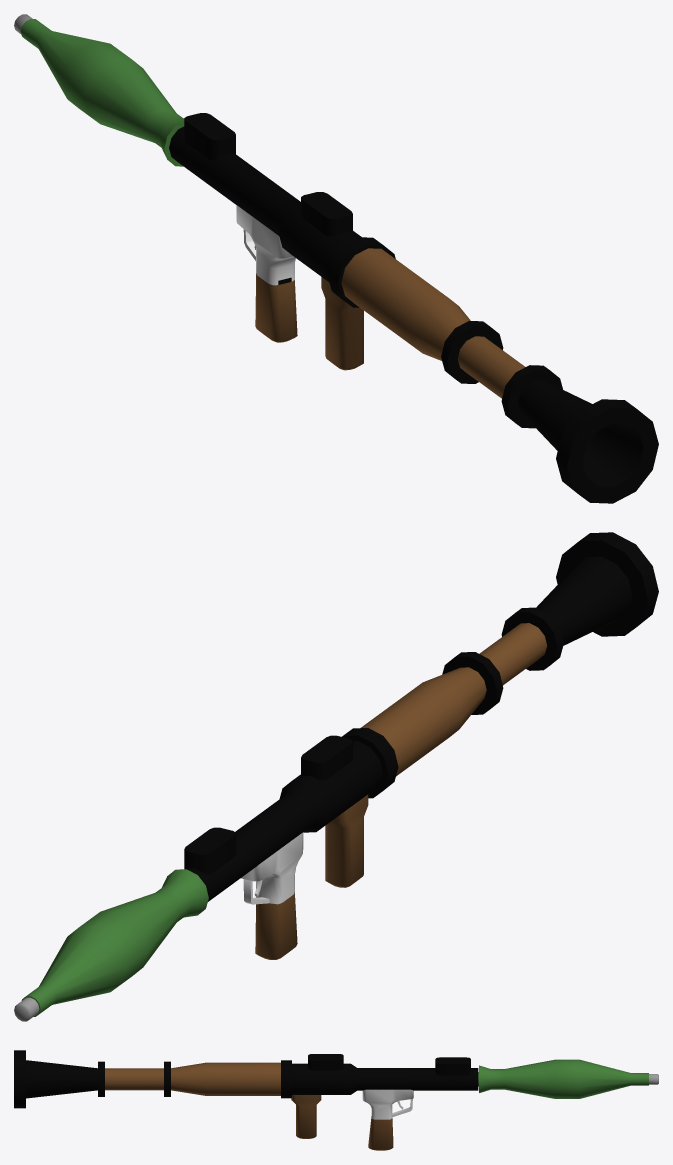
File: rpg7.fbx
The picture shows the model from 3 angles, top to bottom: view 1: azimuth 30°, elevation 25°; view 2: azimuth 150°, elevation 25°; view 3: azimuth 270°, elevation 25°; orthographic projection. The views are drawn at different scales.
Parts seen in each view (by area): view 1: Body, Rocket; view 2: Body, Rocket; view 3: Body, Rocket.
Part boxes in pixels (x1,y1,x2,y2): Body: (169,113,658,503); Rocket: (14,14,184,166); Body: (184,532,658,959); Rocket: (14,869,208,1021); Body: (14,1050,478,1150); Rocket: (478,1059,658,1098).
Size of the model in its own units: 11.98 by 21.72 by 133.
